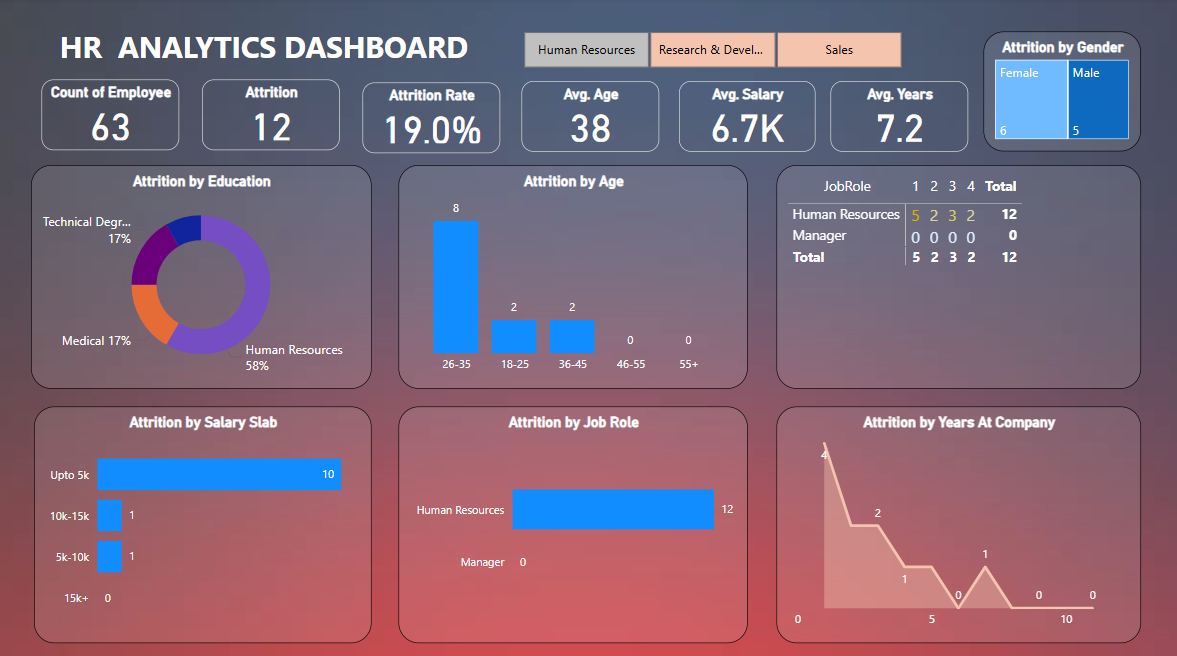

What the dashboard file says about the page in this screenshot:
{"tool":"powerbi","page":{"name":"Page 1","canvas":[1280,720],"ordinal":0},"visuals":[{"type":"card","title":"Count of Employee","fields":{"Values":["CountNonNull(HR_Analytics (2).EmpID)"]},"box":[47.2,89.5,149.6,76.4],"z":0},{"type":"card","title":"Attrition Rate","fields":{"Values":["HR_Analytics (2).AttriritionRate"]},"box":[395.3,92.7,149.6,76.4],"z":1000},{"type":"card","title":"Attrition  ","fields":{"Values":["Sum(HR_Analytics (2).Attrition - Copy)"]},"box":[221.2,89.5,149.6,76.4],"z":2000},{"type":"card","title":"Avg. Age","fields":{"Values":["Avg(HR_Analytics (2).Age)"]},"box":[567.7,91.1,149.6,76.4],"z":3000},{"type":"card","title":"Avg. Salary","fields":{"Values":["Avg(HR_Analytics (2).MonthlyIncome)"]},"box":[738.5,91.1,148,76.4],"z":4000},{"type":"card","title":"Avg. Years","fields":{"Values":["Avg(HR_Analytics (2).YearsAtCompany)"]},"box":[902.7,91.1,149.6,76.4],"z":5000},{"type":"donutChart","title":"Attrition by Education","fields":{"Category":["HR_Analytics (2).EducationField"],"Y":["Sum(HR_Analytics (2).Attrition - Copy)"]},"box":[35.8,182.2,369.2,242.4],"z":6000},{"type":"columnChart","title":"Attrition by Age","fields":{"Category":["HR_Analytics (2).AgeGroup"],"Y":["Sum(HR_Analytics (2).Attrition - Copy)"]},"box":[434.3,182.2,379,242.4],"z":7000},{"type":"pivotTable","fields":{"Rows":["HR_Analytics (2).JobRole"],"Columns":["HR_Analytics (2).JobSatisfaction"],"Values":["Sum(HR_Analytics (2).Attrition - Copy)"]},"box":[844.2,182.2,395.3,242.4],"z":8000},{"type":"barChart","title":"Attrition by Age","fields":{"Category":["HR_Analytics (2).SalarySlab"],"Y":["Sum(HR_Analytics (2).Attrition - Copy)"]},"box":[39,444,366,257],"z":9000},{"type":"barChart","title":"Attrition by Age","fields":{"Category":["HR_Analytics (2).JobRole"],"Y":["Sum(HR_Analytics (2).Attrition - Copy)"]},"box":[434.3,444,379,257],"z":10000},{"type":"areaChart","title":"Attrition by Age","fields":{"Category":["HR_Analytics (2).YearsAtCompany"],"Y":["Sum(HR_Analytics (2).Attrition - Copy)"]},"box":[844.2,444,395.3,257],"z":11000},{"type":"treemap","title":"Attrition by Age","fields":{"Group":["HR_Analytics (2).Gender"],"Values":["Sum(HR_Analytics (2).Attrition - Copy)"]},"box":[1068.6,37.4,170.8,130.1],"z":12000},{"type":"slicer","fields":{"Values":["HR_Analytics (2).Department"]},"box":[544.9,30.9,458.7,52],"z":13000},{"type":"textbox","box":[61.8,26,496.1,76.4],"z":14000}]}

Visuals, with their boxes in screenshot pixels (x1, y1, x2, y2), scaled from the page's 1280x720 canvas onto the 1177x656 screenshot:
"Count of Employee" card: (43, 82, 181, 151)
"Attrition Rate" card: (363, 84, 501, 154)
"Attrition  " card: (203, 82, 341, 151)
"Avg. Age" card: (522, 83, 660, 153)
"Avg. Salary" card: (679, 83, 815, 153)
"Avg. Years" card: (830, 83, 968, 153)
"Attrition by Education" donutChart: (33, 166, 372, 387)
"Attrition by Age" columnChart: (399, 166, 748, 387)
pivotTable - HR_Analytics (2).JobRole x HR_Analytics (2).JobSatisfaction: (776, 166, 1140, 387)
"Attrition by Age" barChart: (36, 405, 372, 639)
"Attrition by Age" barChart: (399, 405, 748, 639)
"Attrition by Age" areaChart: (776, 405, 1140, 639)
"Attrition by Age" treemap: (983, 34, 1140, 153)
slicer - HR_Analytics (2).Department: (501, 28, 923, 76)
textbox: (57, 24, 513, 93)
